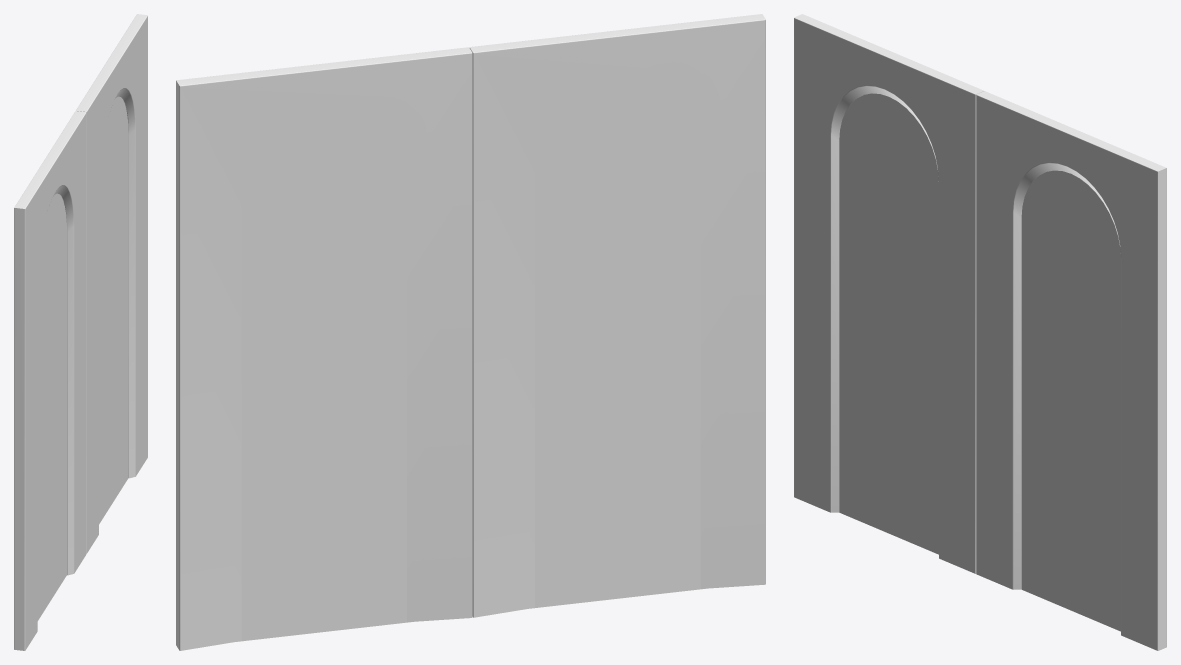
The model's file is tvtable_0202_door.glb.
The picture shows the model from 3 angles, left to right: view 1: azimuth 30°, elevation 25°; view 2: azimuth 150°, elevation 25°; view 3: azimuth 270°, elevation 25°; orthographic projection. The views are drawn at different scales.
Parts seen in each view (by area): view 1: tvtable_0202_door; view 2: tvtable_0202_door; view 3: tvtable_0202_door.
Part boxes in pixels (x1,y1,x2,y2): tvtable_0202_door: (14, 14, 147, 650); tvtable_0202_door: (176, 14, 765, 650); tvtable_0202_door: (794, 14, 1166, 650).
Bounding box in the file's own units: 0.5793 × 0.823 × 0.5793.
Materials: 1 (1 with a texture image).
